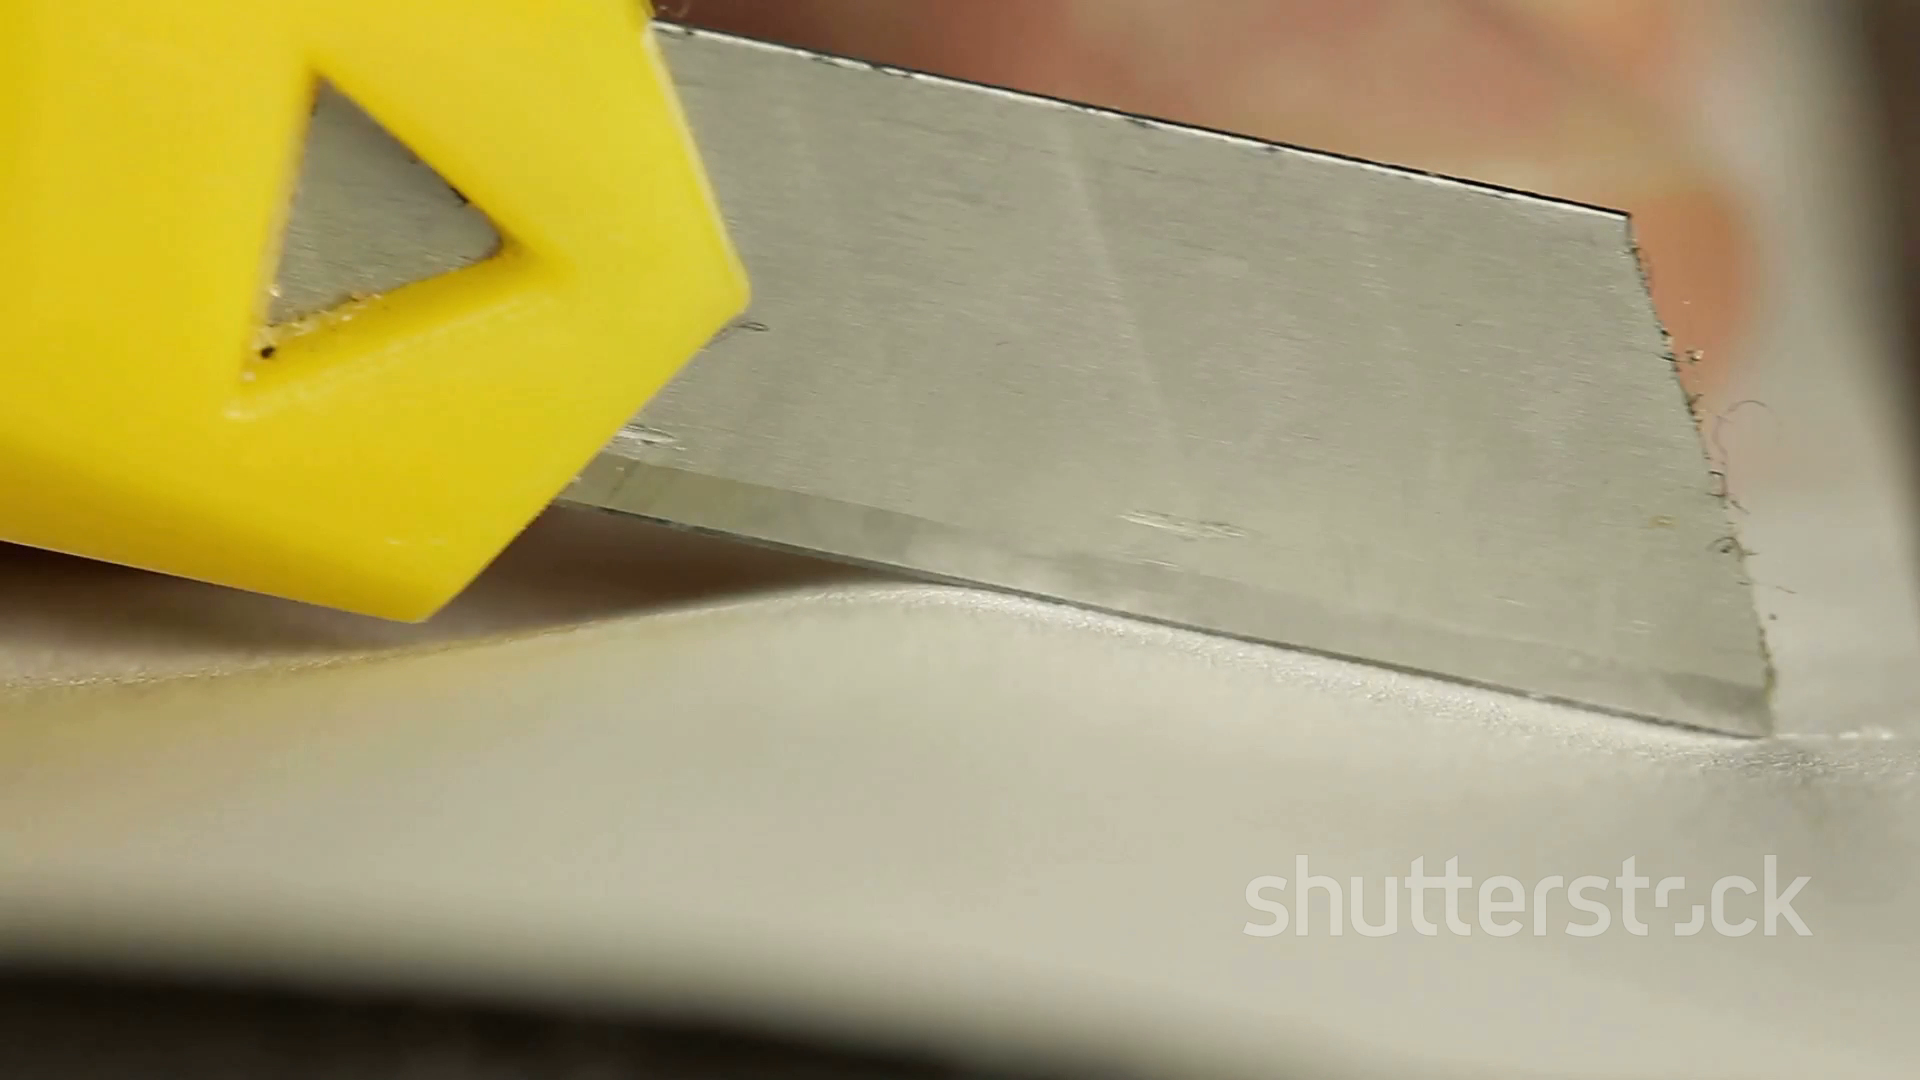cortante: (555, 22, 1775, 741)
